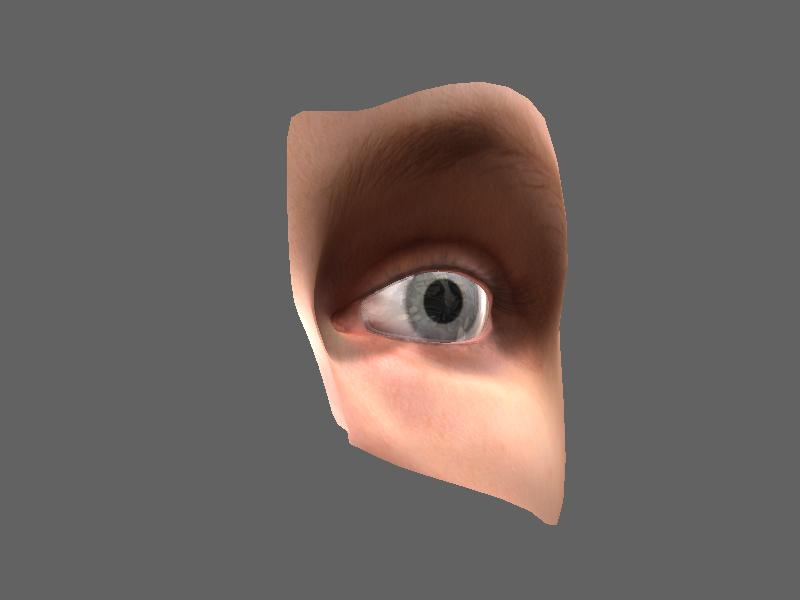iris: (403, 271, 481, 340)
